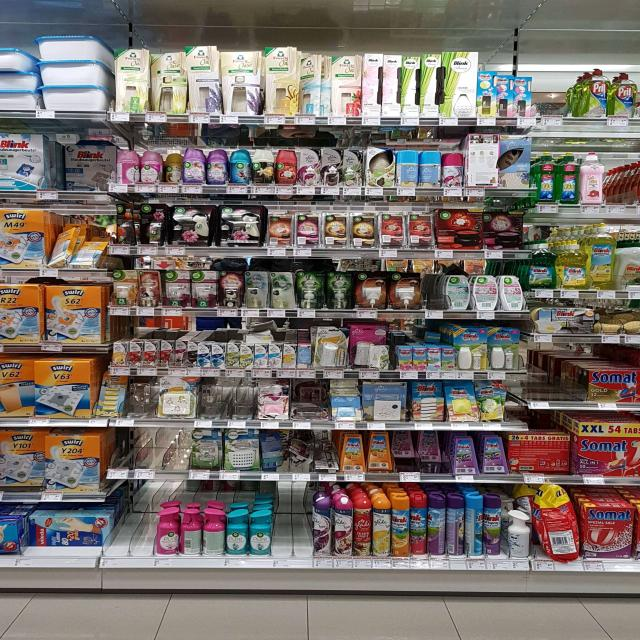void: (527, 346, 584, 410), (116, 482, 152, 568), (275, 482, 314, 561), (533, 67, 577, 125), (205, 377, 255, 428), (611, 140, 640, 216), (110, 427, 149, 480), (152, 428, 189, 482), (126, 375, 160, 426)
